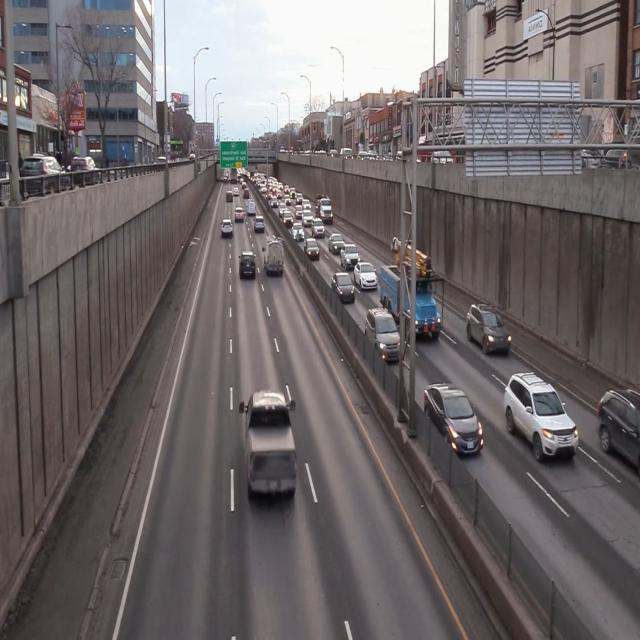Vehicle: (501, 370, 578, 464), (235, 392, 297, 495), (419, 384, 483, 465), (464, 300, 510, 366), (363, 309, 402, 368), (328, 271, 356, 308), (262, 235, 284, 280), (234, 244, 258, 279), (354, 262, 376, 291)
